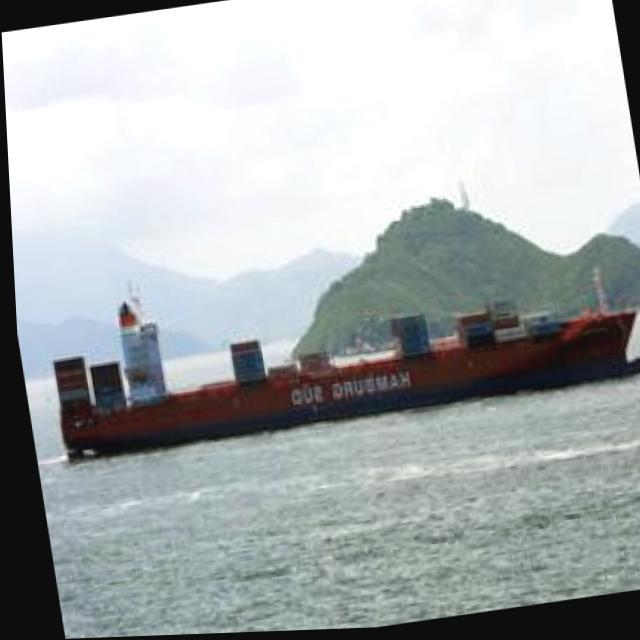ship2: (50, 296, 640, 464)
